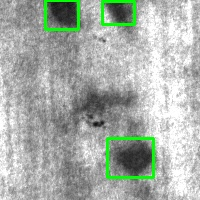patches: (107, 138, 153, 177), (45, 1, 78, 29), (102, 1, 134, 24)
